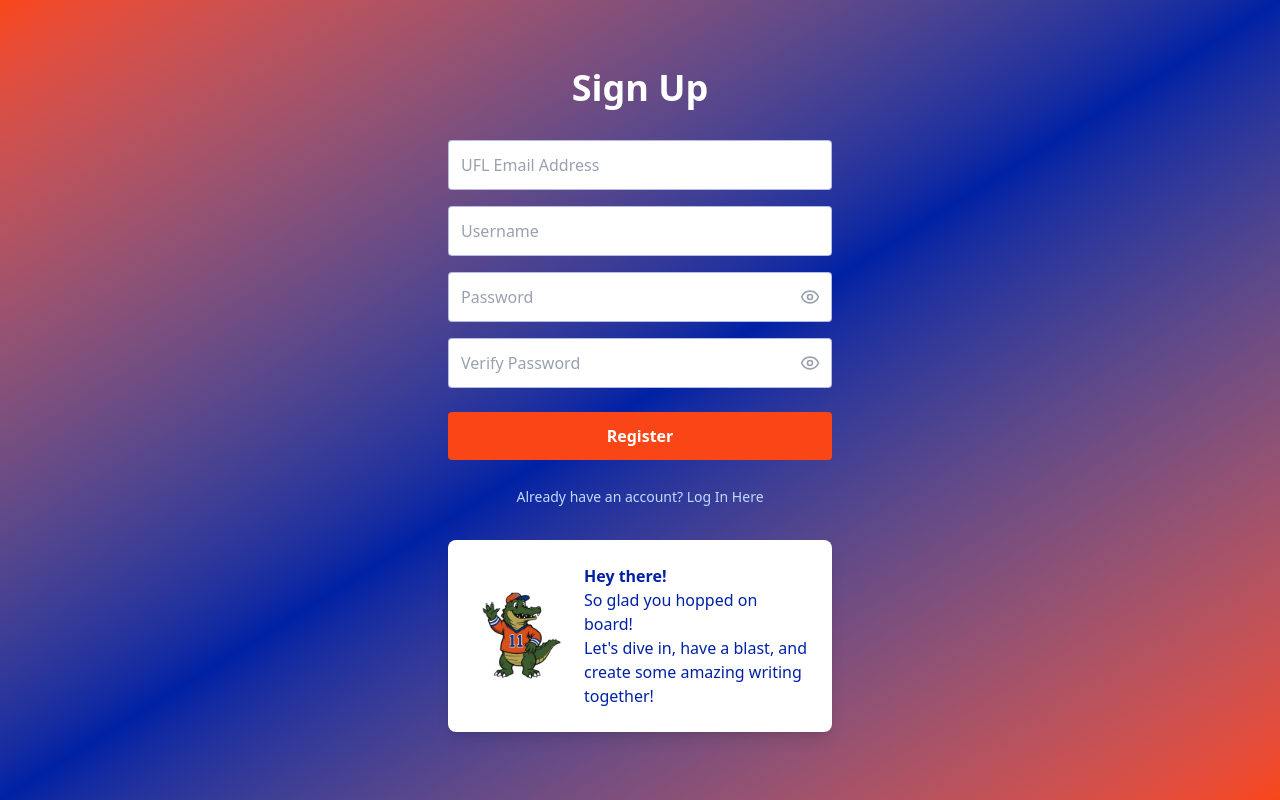
Test: SignUp Page Tests › should validate UF email address format
Step 1. Type "test@gmail.com" into the field named "email" → (640, 165), box [448, 140, 832, 190]
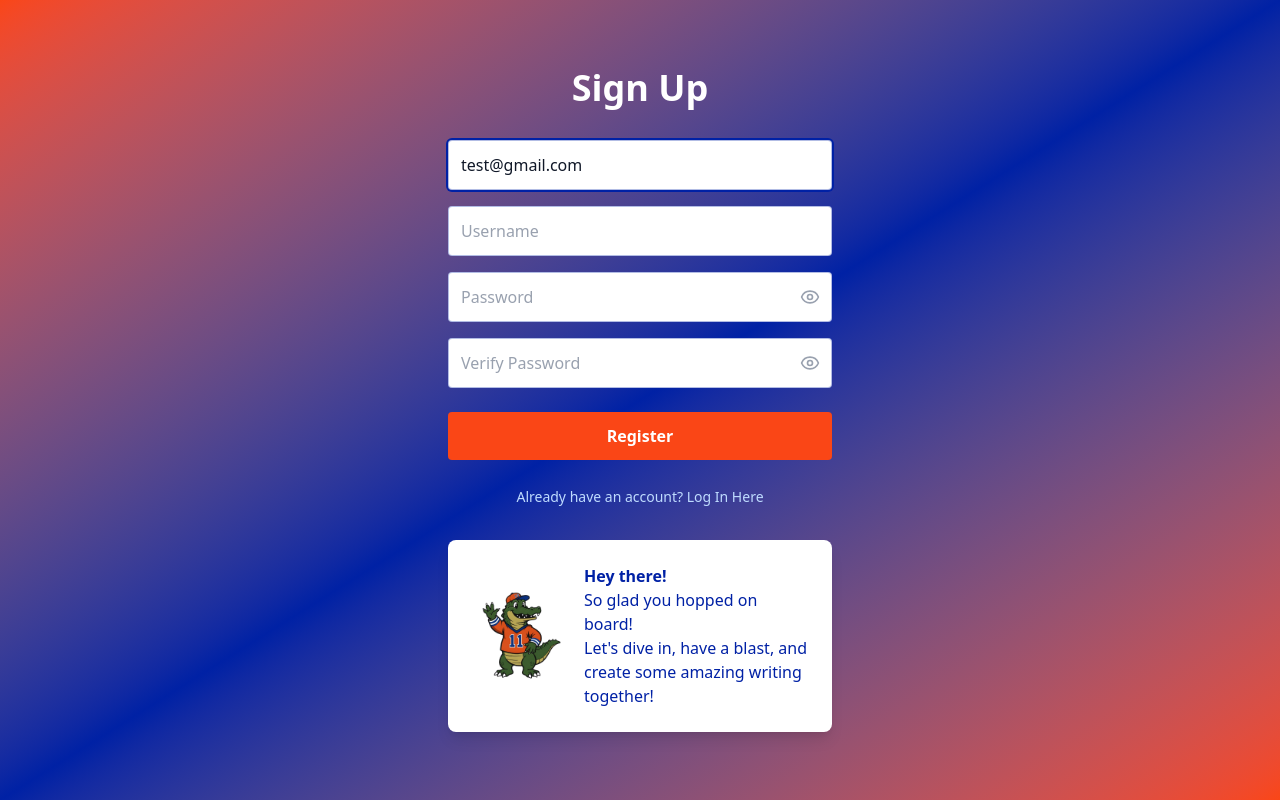
Step 2. Type "testuser" into the field named "username" → (640, 231), box [448, 206, 832, 256]
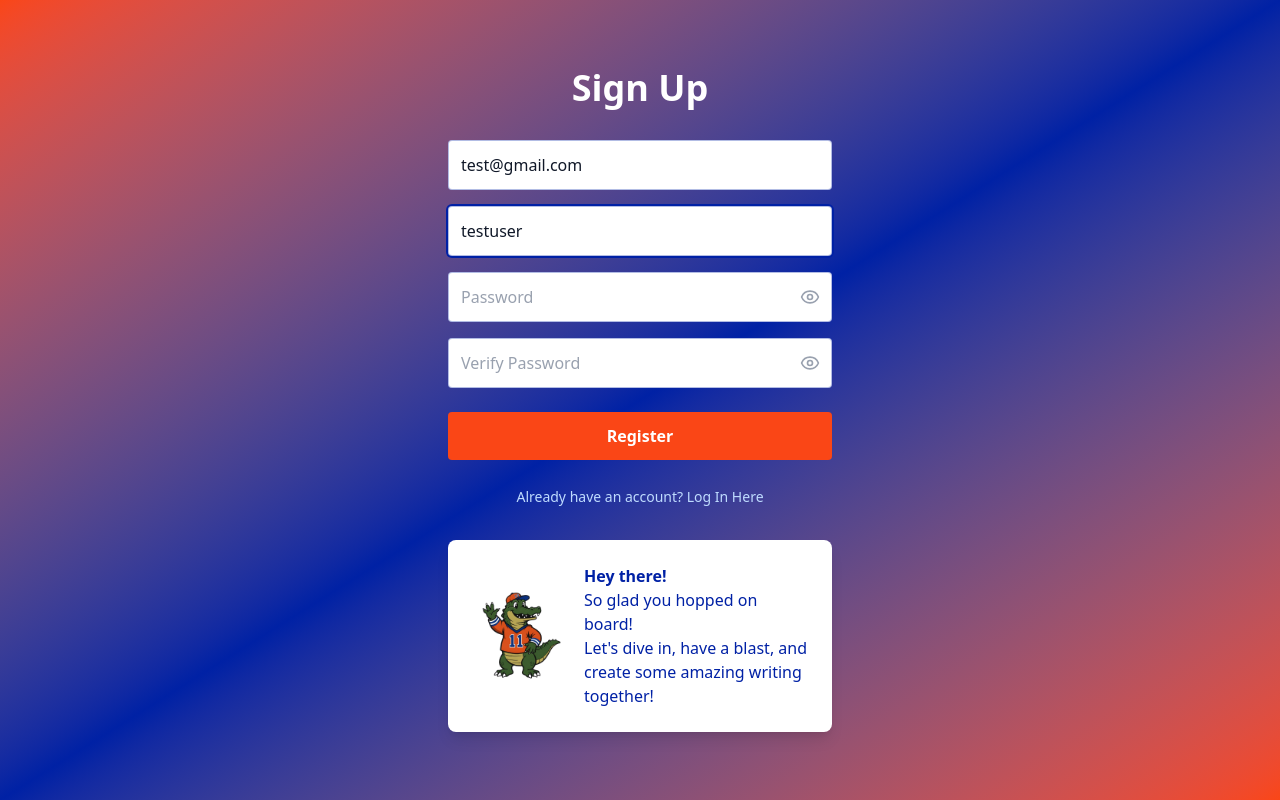
Step 3. Type "Password123" into the password field named "password" → (640, 297), box [448, 272, 832, 322]
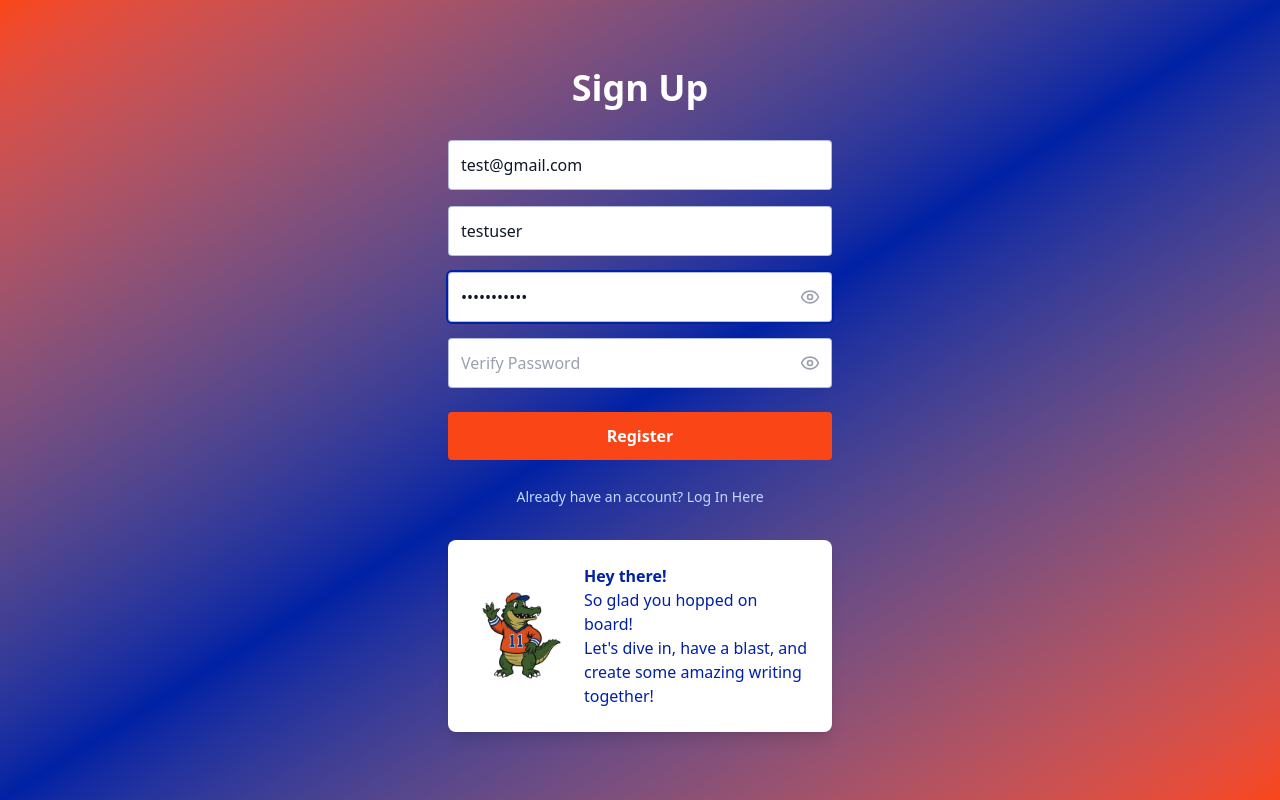
Step 4. Type "Password123" into the password field named "verifyPassword" → (640, 363), box [448, 338, 832, 388]
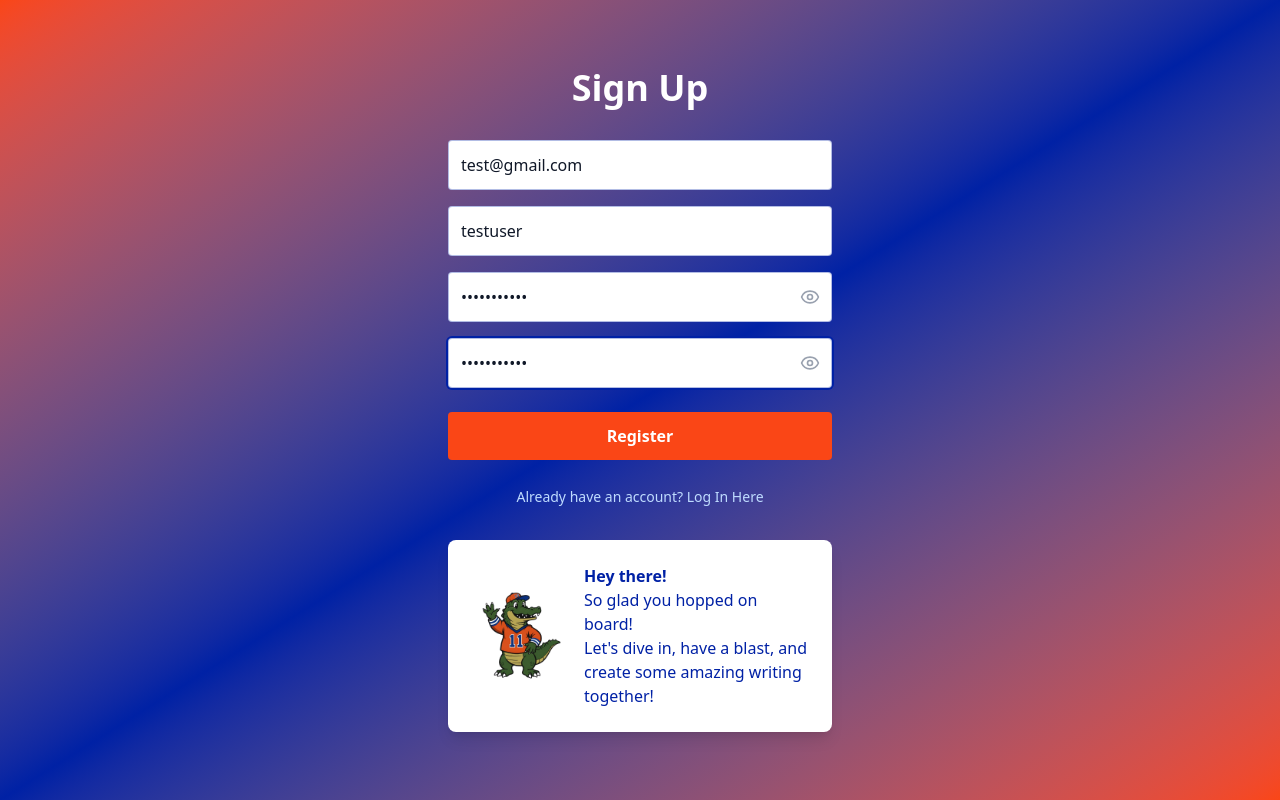
Step 5. Click the submit button → click(640, 436), box [448, 412, 832, 460]
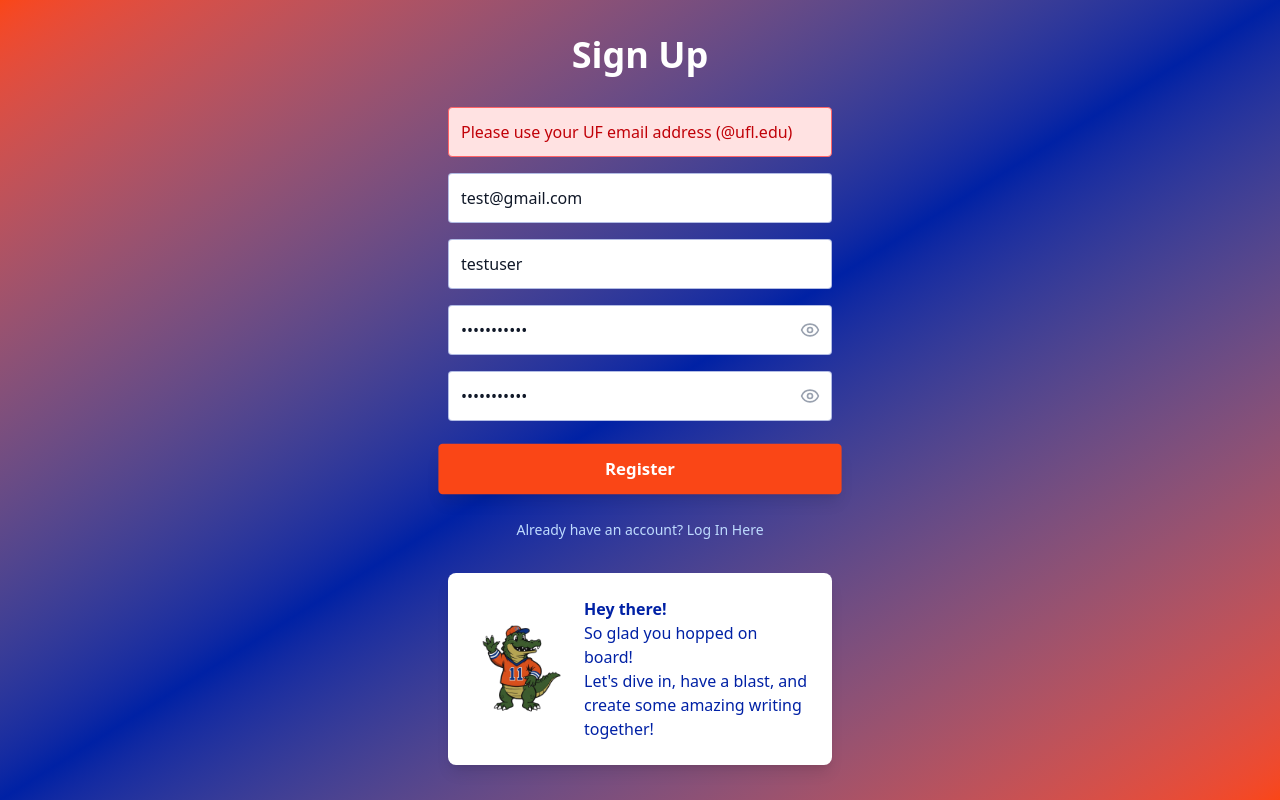
Expected: the text "Please use your UF email address (@ufl.edu)" is shown, [448, 107, 832, 157]
